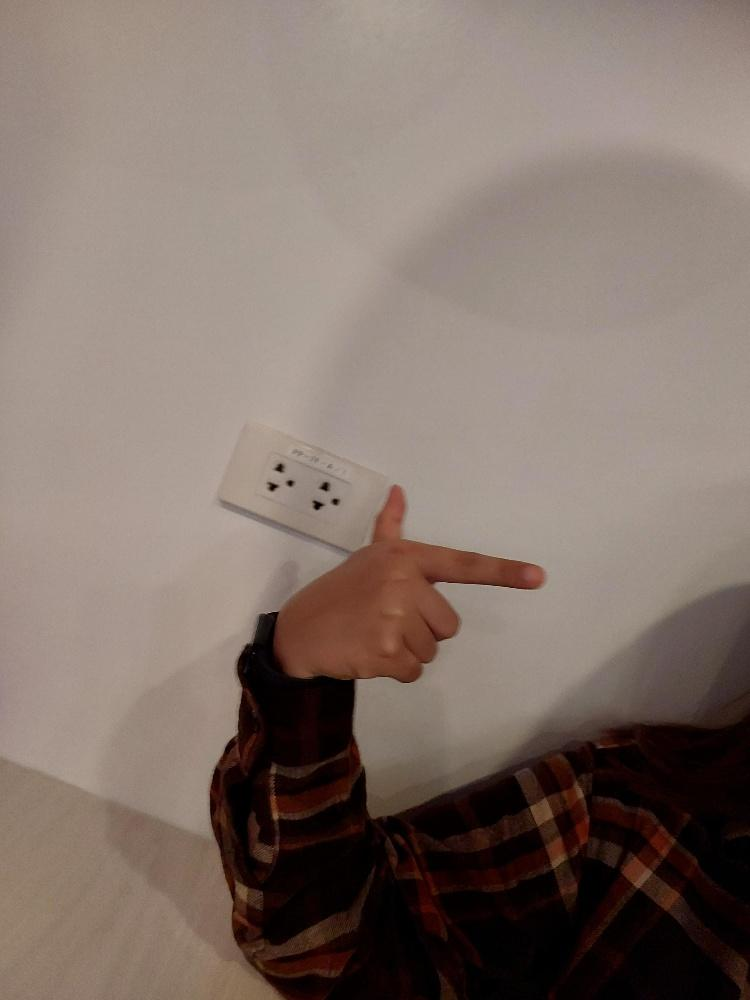g: (265, 479, 549, 686)
